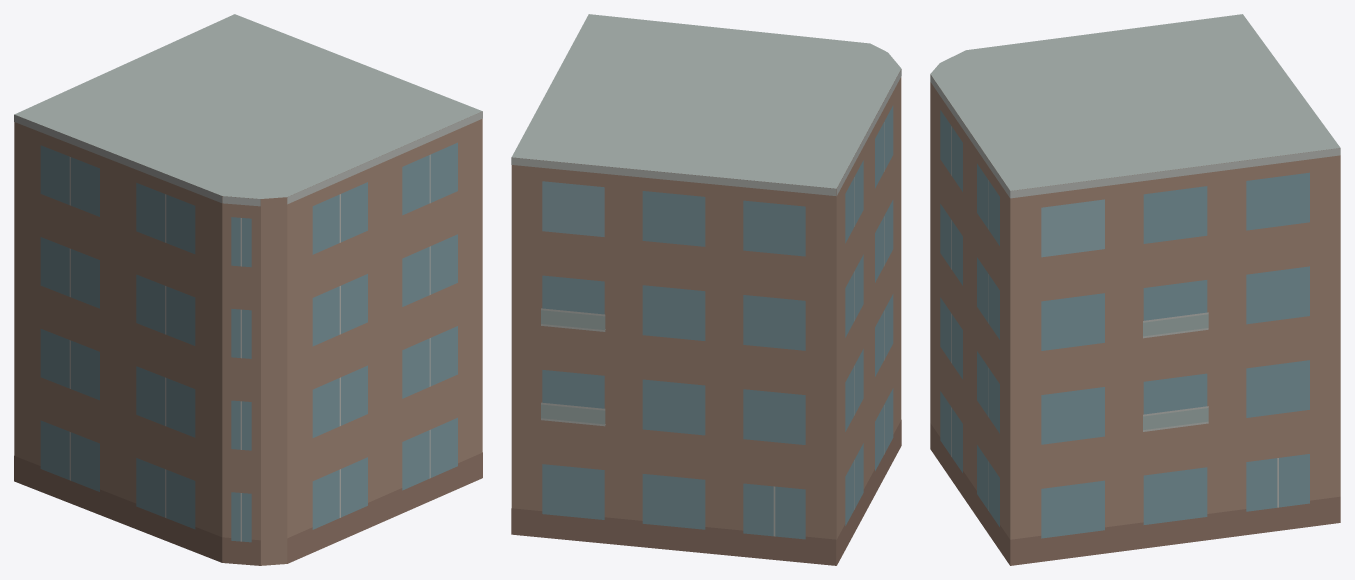
Rendered from residential-8b284032-52ff-4225-9bb7-9d3dfb7eb778.glb.
3 renders of one model, left to right at view 1: azimuth 30°, elevation 25°; view 2: azimuth 150°, elevation 25°; view 3: azimuth 270°, elevation 25°, orthographic. The views are drawn at different scales.
Visible parts, largest first — view 1: residential-8b284032-52ff-4225-9bb7-9d3dfb7eb778.tmp; view 2: residential-8b284032-52ff-4225-9bb7-9d3dfb7eb778.tmp; view 3: residential-8b284032-52ff-4225-9bb7-9d3dfb7eb778.tmp.
Boxes of the visible parts, x1,y1,x2,y2 form: residential-8b284032-52ff-4225-9bb7-9d3dfb7eb778.tmp: (14, 14, 482, 565); residential-8b284032-52ff-4225-9bb7-9d3dfb7eb778.tmp: (511, 14, 901, 565); residential-8b284032-52ff-4225-9bb7-9d3dfb7eb778.tmp: (930, 14, 1340, 565).
Bounding box in the file's own units: 12.36 × 12.2 × 12.11.
